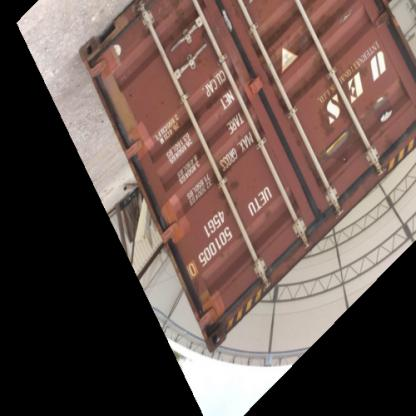Damage: (286, 22, 344, 60), (209, 172, 249, 216), (310, 92, 352, 132)
